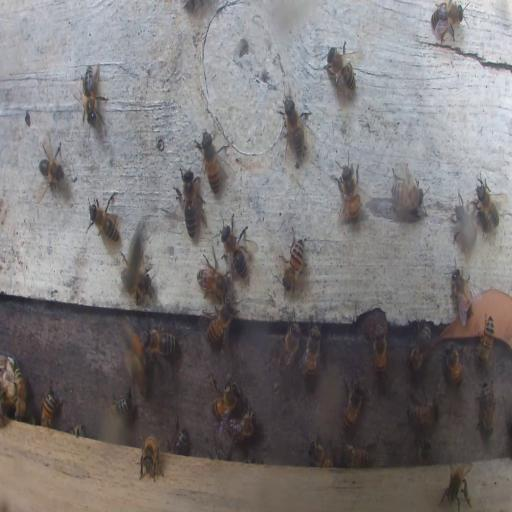nonpollenbee: (334, 153, 364, 226), (173, 166, 205, 234), (72, 63, 103, 128), (219, 213, 249, 279), (87, 194, 122, 247), (280, 92, 308, 158), (197, 128, 224, 196), (325, 43, 357, 99), (390, 165, 424, 216), (440, 461, 474, 511), (280, 230, 306, 295), (36, 139, 64, 196), (196, 254, 230, 299), (121, 236, 146, 294), (430, 2, 466, 42), (475, 175, 500, 230), (206, 299, 235, 345), (210, 379, 240, 423), (452, 264, 474, 324), (342, 380, 366, 432), (407, 323, 431, 371), (139, 434, 163, 481), (454, 202, 478, 248), (407, 394, 438, 429), (225, 409, 256, 443), (146, 326, 176, 360), (478, 380, 496, 436), (302, 324, 320, 378), (282, 318, 300, 370), (445, 343, 463, 388), (477, 315, 494, 361), (12, 364, 27, 416), (131, 271, 155, 303), (373, 322, 386, 376), (112, 380, 132, 415), (168, 420, 189, 453), (341, 444, 371, 467), (308, 441, 333, 467), (42, 389, 58, 428), (416, 437, 432, 464)
pollenbee: (121, 320, 147, 394)
